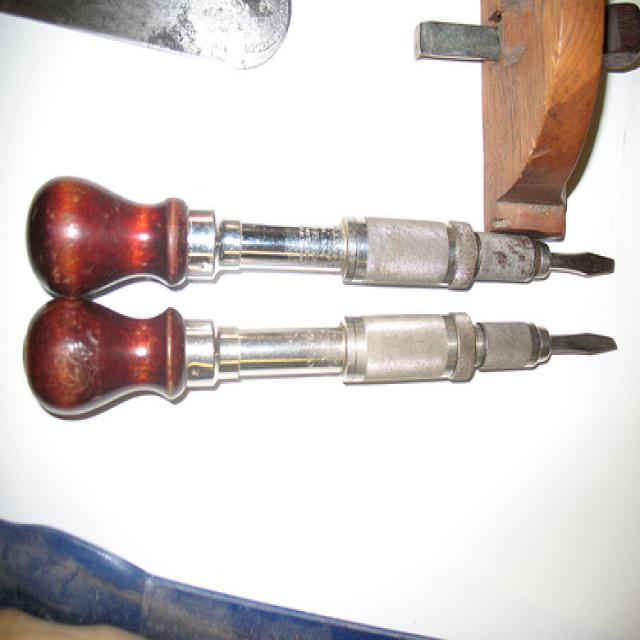screw driver: (22, 170, 639, 323), (2, 299, 636, 429)
